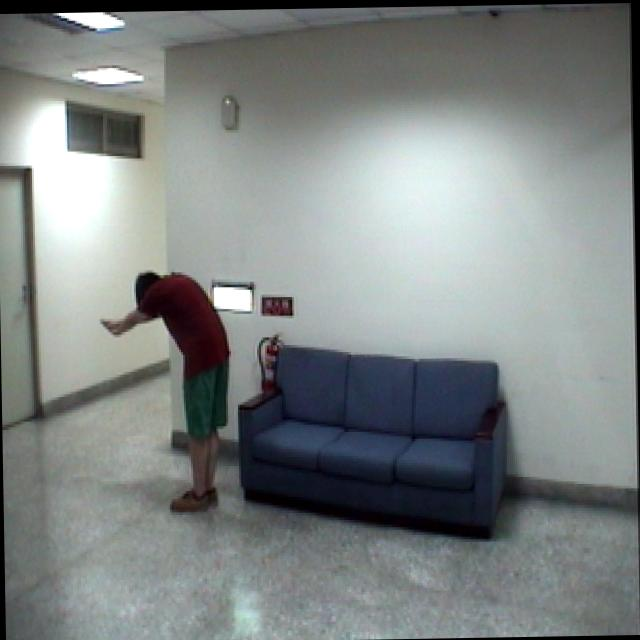bend: (102, 265, 238, 516)
